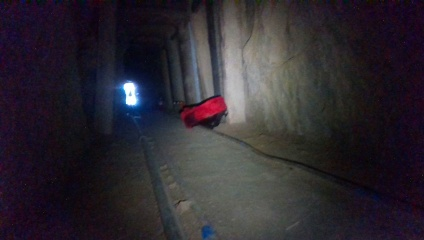backpack: (178, 94, 227, 131)
drill: (171, 99, 183, 113)
